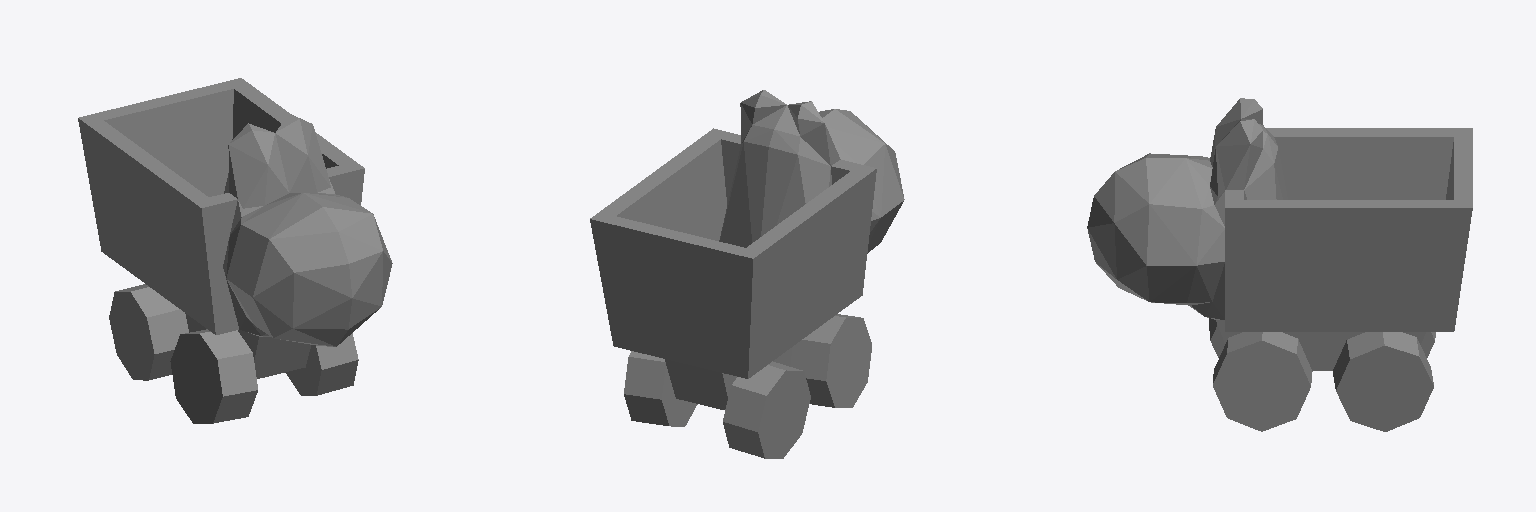
The model's file is torokko_yoshi_body01a.obj.
3 renders of one model, left to right at view 1: azimuth 30°, elevation 25°; view 2: azimuth 150°, elevation 25°; view 3: azimuth 270°, elevation 25°, orthographic.
Parts seen in each view (by area): view 1: torokko_yoshi_body, yoshi_eye; view 2: torokko_yoshi_body; view 3: torokko_yoshi_body, yoshi_eye.
Boxes of the visible parts, box(x1,y1,x2,y2) form: torokko_yoshi_body: box(78, 78, 392, 423); yoshi_eye: box(229, 119, 330, 208); torokko_yoshi_body: box(590, 90, 904, 458); torokko_yoshi_body: box(1087, 98, 1472, 431); yoshi_eye: box(1210, 99, 1250, 196).
Size of the model in its own units: 8.74 by 15.01 by 17.86.